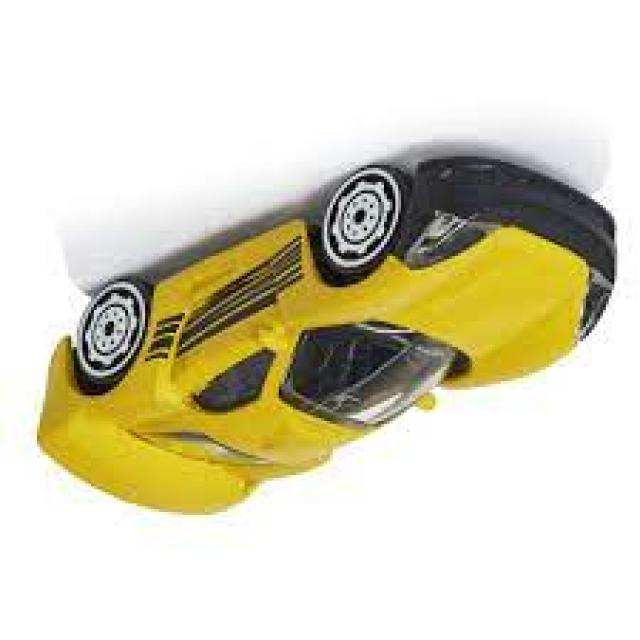Car: (34, 159, 617, 518)
